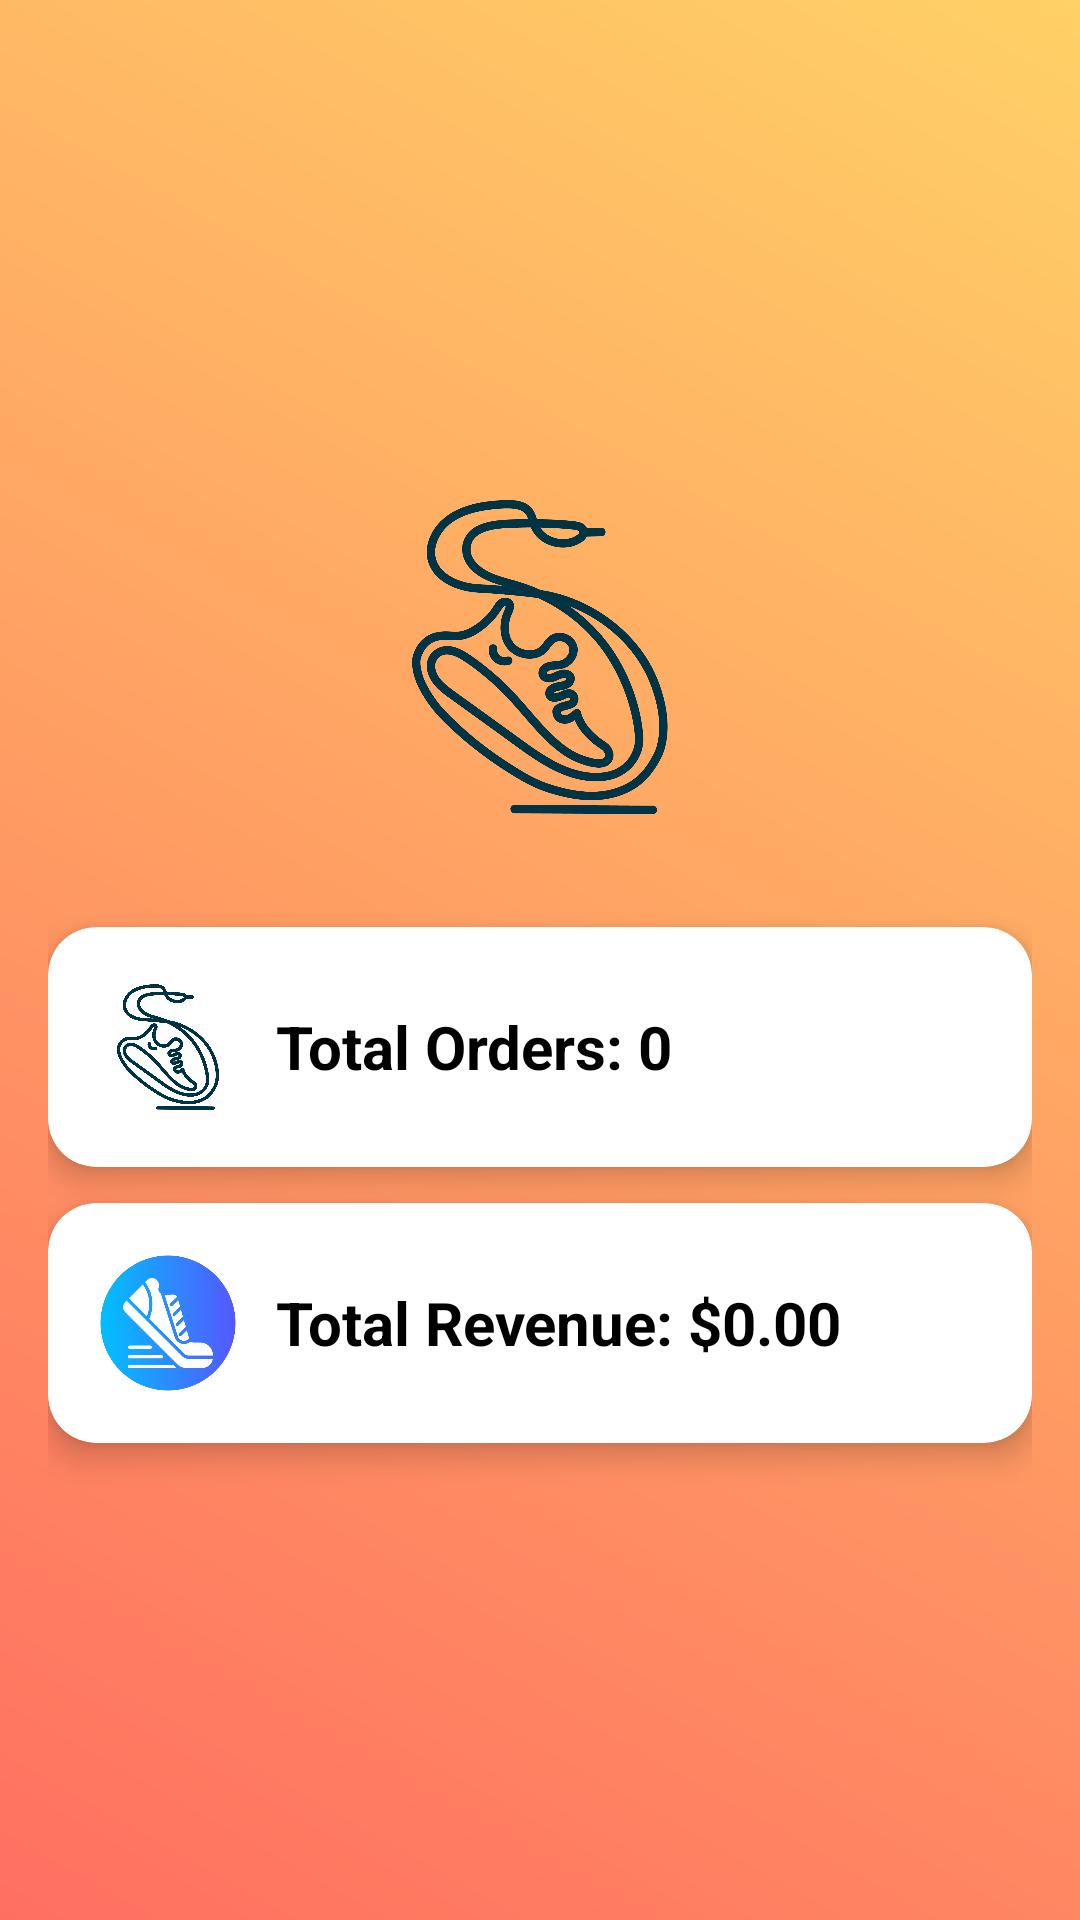

Named icons in this screenshot (1080 x 1920) and their bounding boxes, [x1,y1,x2,y2]:
shoes dashboard: [100,1255,236,1391]
